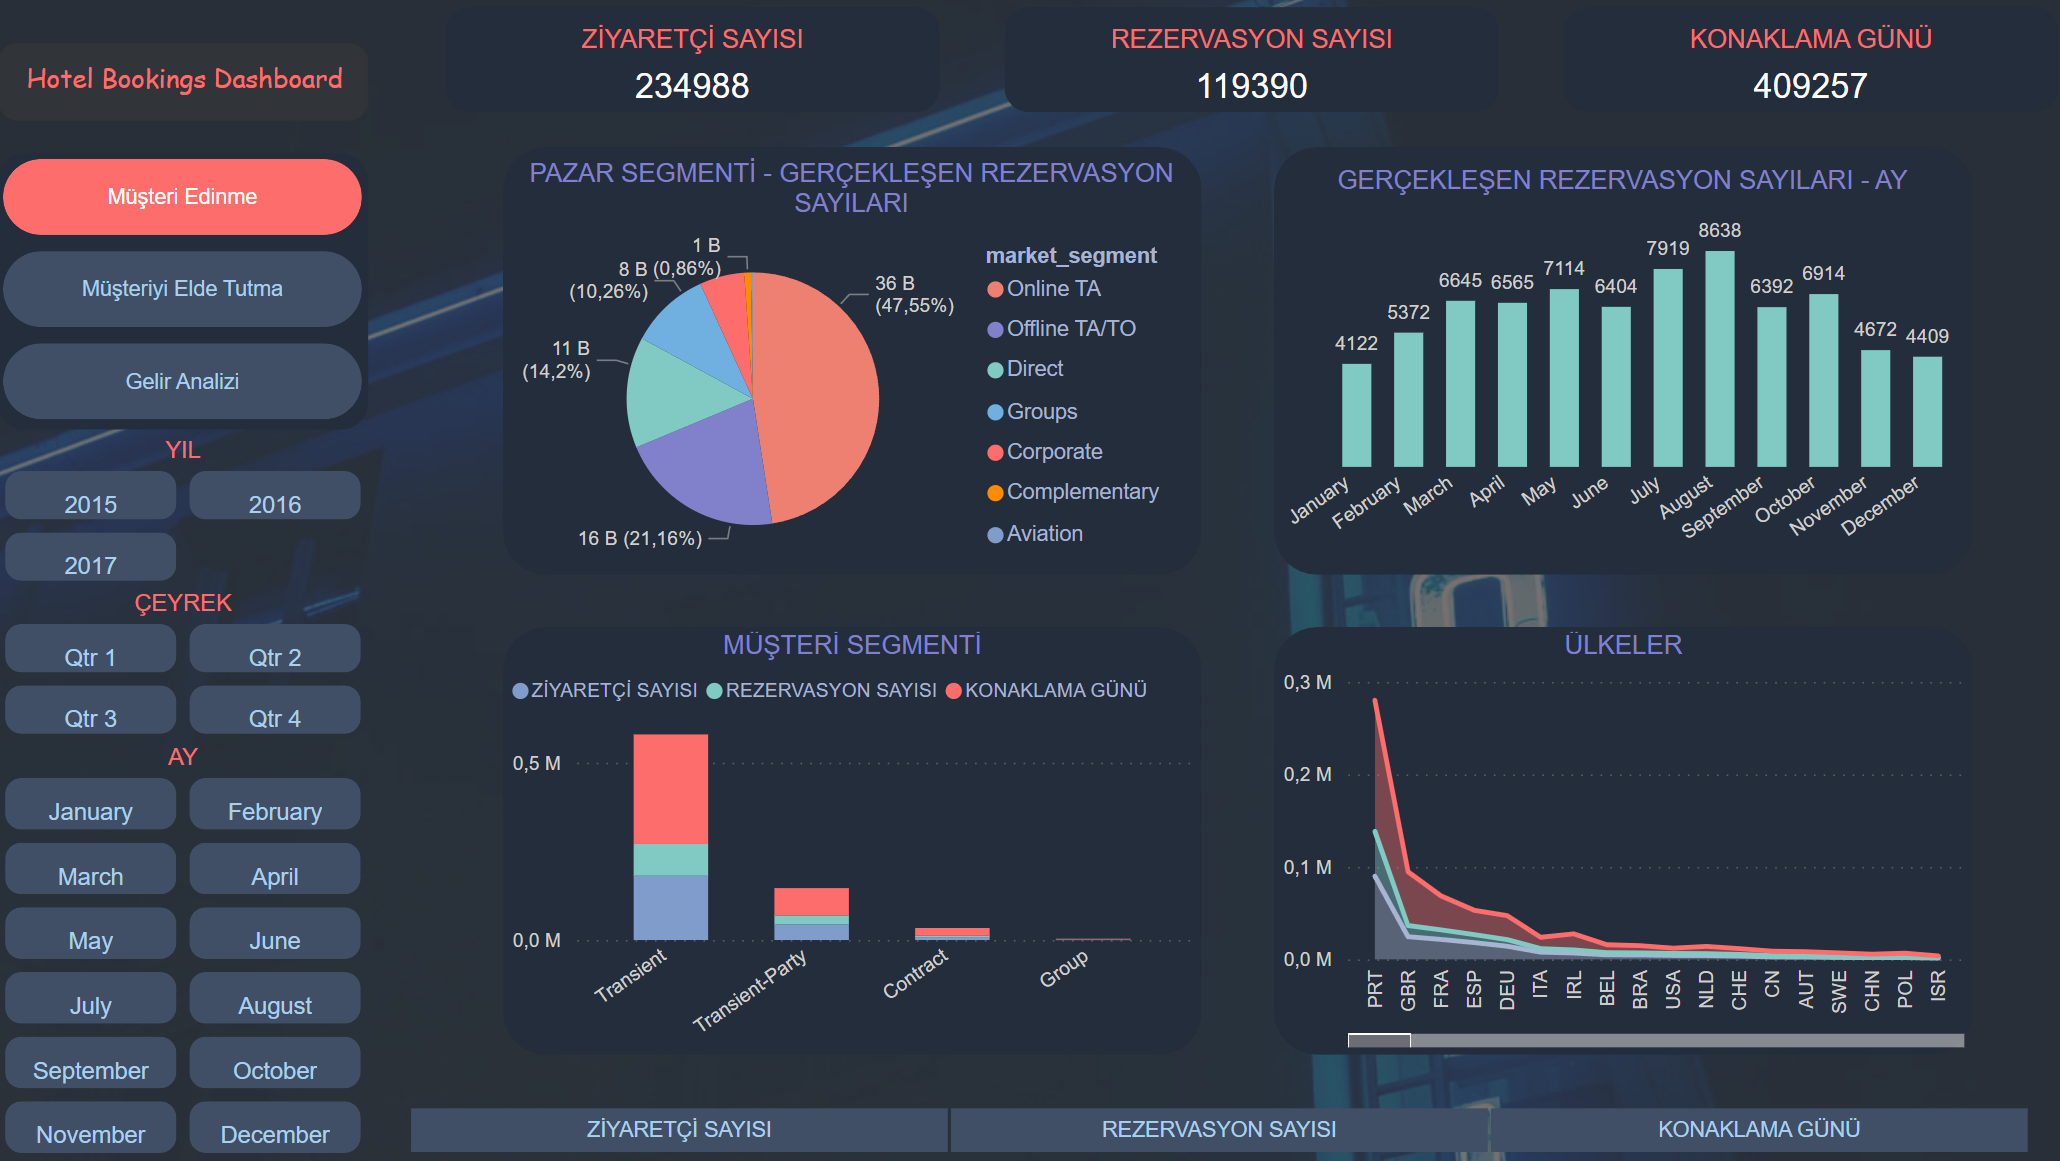

What the dashboard file says about the page in this screenshot:
{"tool":"powerbi","page":{"name":"Müşteri Edinme","canvas":[1280,720],"ordinal":0},"visuals":[{"type":"cardVisual","fields":{"Data":["Ölçüler.ZİYARETÇİ SAYISI","Ölçüler.REZERVASYON SAYISI","Ölçüler.KONAKLAMA GÜNÜ"]},"box":[272,0,1008,75],"z":0},{"type":"advancedSlicerVisual","title":"YIL","fields":{"Values":["Hotel.arrival_date.Varyasyon.Date Hierarchy.Year"]},"box":[0,270.9,230.1,94.6],"z":1000},{"type":"advancedSlicerVisual","title":"AY","fields":{"Values":["Hotel.arrival_date.Varyasyon.Date Hierarchy.Month"]},"box":[0,460.8,230,259.2],"z":2000},{"type":"advancedSlicerVisual","title":"ÇEYREK","fields":{"Values":["Hotel.arrival_date.Varyasyon.Date Hierarchy.Quarter"]},"box":[0,365.4,230,95.4],"z":3000},{"type":"slicer","fields":{"Values":["Parametre.Parametre"]},"box":[230,679.2,1050,40.8],"z":4000},{"type":"shape","box":[790,388.5,432.3,264.6],"z":5000},{"type":"stackedAreaChart","title":"ÜLKELER","fields":{"Y":["Ölçüler.ZİYARETÇİ SAYISI","Ölçüler.REZERVASYON SAYISI","Ölçüler.KONAKLAMA GÜNÜ"],"Category":["Hotel.country"]},"box":[790,388.5,432.3,264.6],"z":6000},{"type":"shape","box":[313.1,388.5,432.3,264.6],"z":7000},{"type":"columnChart","title":"MÜŞTERİ SEGMENTİ","fields":{"Y":["Ölçüler.ZİYARETÇİ SAYISI","Ölçüler.REZERVASYON SAYISI","Ölçüler.KONAKLAMA GÜNÜ"],"Category":["Hotel.customer_type"]},"box":[313.1,388.5,432.3,264.6],"z":8000},{"type":"shape","box":[313.1,91.5,432.3,264.6],"z":9000},{"type":"shape","box":[790,91.5,432.3,264.6],"z":10000},{"type":"textbox","box":[0.7,5.4,228.5,86.5],"z":11000},{"type":"shape","box":[0,95.2,229.8,171.4],"z":12000},{"type":"pageNavigator","box":[3.7,99,222.7,162.7],"z":13000},{"type":"pieChart","title":"PAZAR SEGMENTİ - GERÇEKLEŞEN REZERVASYON SAYILARI","fields":{"Category":["Hotel.market_segment"],"Y":["Ölçüler.İptal Olmayan Rezervasyon Sayısı"]},"box":[318.6,96.6,420,264.5],"z":14000},{"type":"columnChart","title":"GERÇEKLEŞEN REZERVASYON SAYILARI - AY","fields":{"Category":["Hotel.arrival_date.Varyasyon.Date Hierarchy.Month"],"Y":["Ölçüler.GERÇEKLEŞEN REZERVASYONLAR"]},"box":[789.4,100.7,432.4,255.6],"z":15000}]}

Visuals, with their boxes in screenshot pixels (x1, y1, x2, y2), scaled from the page's 1280x720 canvas onto the 2060x1161 screenshot:
cardVisual - Ölçüler.ZİYARETÇİ SAYISI x Ölçüler.REZERVASYON SAYISI: (438, 0, 2059, 121)
"YIL" advancedSlicerVisual: (0, 437, 370, 589)
"AY" advancedSlicerVisual: (0, 743, 370, 1160)
"ÇEYREK" advancedSlicerVisual: (0, 589, 370, 743)
slicer - Parametre.Parametre: (370, 1095, 2059, 1160)
shape: (1271, 626, 1967, 1053)
"ÜLKELER" stackedAreaChart: (1271, 626, 1967, 1053)
shape: (504, 626, 1200, 1053)
"MÜŞTERİ SEGMENTİ" columnChart: (504, 626, 1200, 1053)
shape: (504, 148, 1200, 574)
shape: (1271, 148, 1967, 574)
textbox: (1, 9, 369, 148)
shape: (0, 154, 370, 430)
pageNavigator: (6, 160, 364, 422)
"PAZAR SEGMENTİ - GERÇEKLEŞEN REZERVASYON SAYILARI" pieChart: (513, 156, 1189, 582)
"GERÇEKLEŞEN REZERVASYON SAYILARI - AY" columnChart: (1270, 162, 1966, 575)
